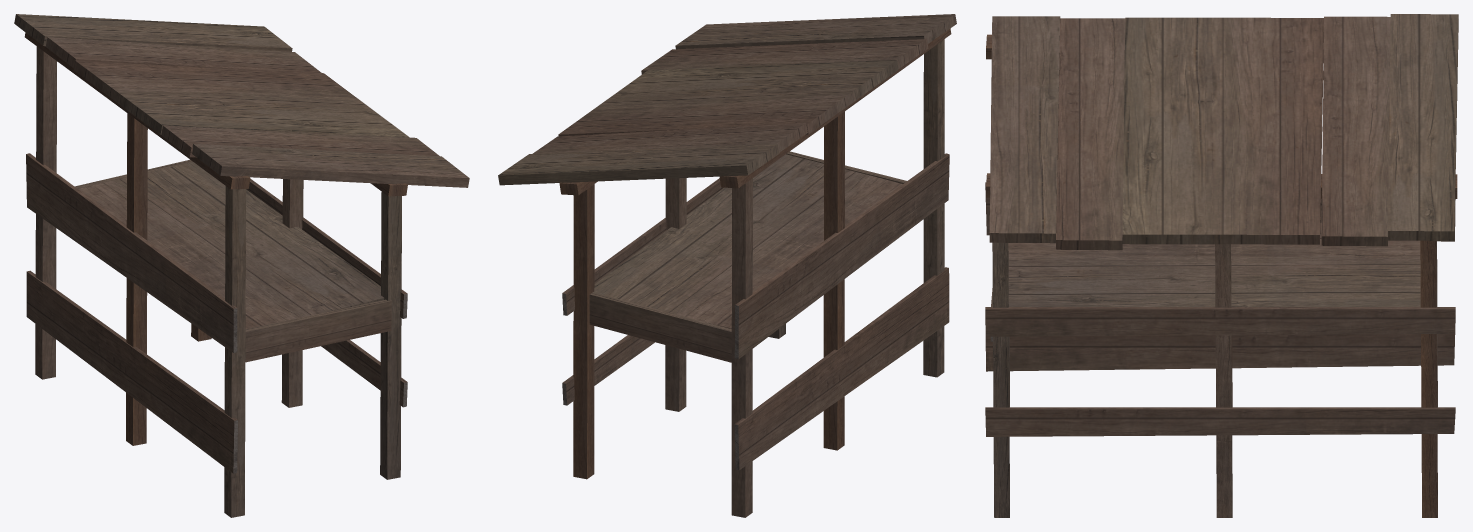
The model's file is jov_house01prop_wood4.fbx.
3 renders of one model, left to right at view 1: azimuth 30°, elevation 25°; view 2: azimuth 150°, elevation 25°; view 3: azimuth 270°, elevation 25°, orthographic. The views are drawn at different scales.
Visible parts, largest first — view 1: jov_house01prop_wood4; view 2: jov_house01prop_wood4; view 3: jov_house01prop_wood4.
Part boxes in pixels (x1,y1,x2,y2): jov_house01prop_wood4: [14, 14, 469, 517]; jov_house01prop_wood4: [498, 14, 956, 517]; jov_house01prop_wood4: [985, 14, 1458, 517].
Size of the model in its own units: 186 by 249 by 265.
